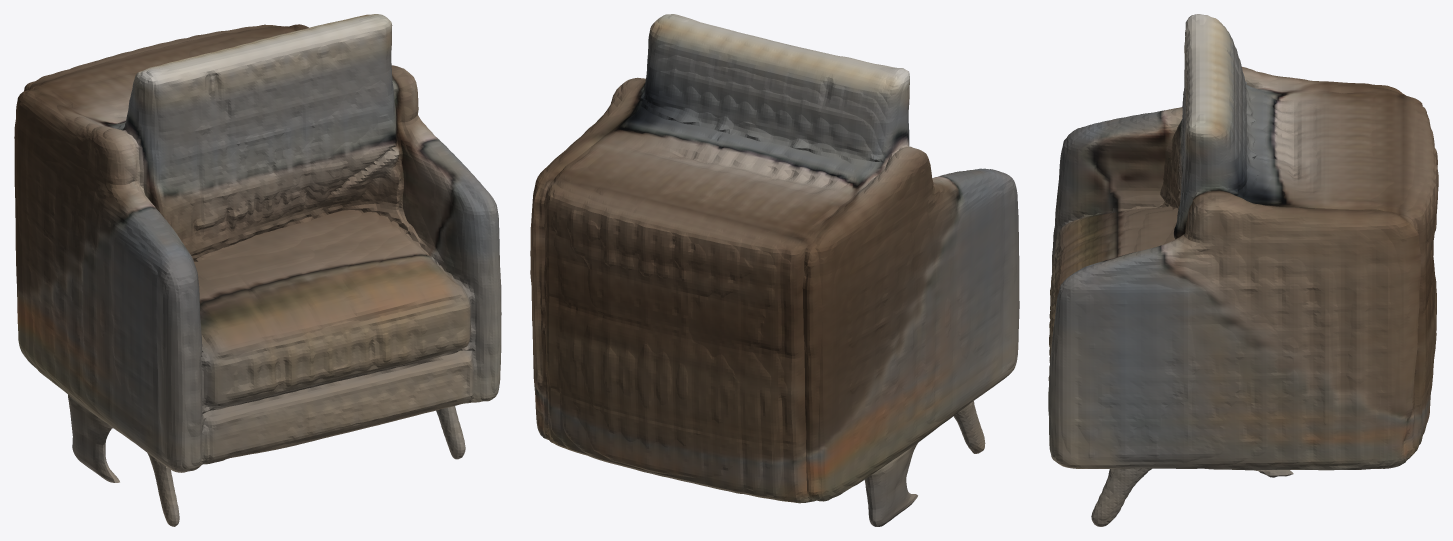
The model's file is chair-001.glb.
3 renders of one model, left to right at view 1: azimuth 30°, elevation 25°; view 2: azimuth 150°, elevation 25°; view 3: azimuth 270°, elevation 25°, orthographic. The views are drawn at different scales.
Visible parts, largest first — view 1: geometry_0; view 2: geometry_0; view 3: geometry_0.
Boxes of the visible parts, <box> form: geometry_0: <box>14,14,501,526</box>; geometry_0: <box>530,14,1019,526</box>; geometry_0: <box>1048,14,1438,526</box>.
Bounding box in the file's own units: 75 × 90 × 80.
